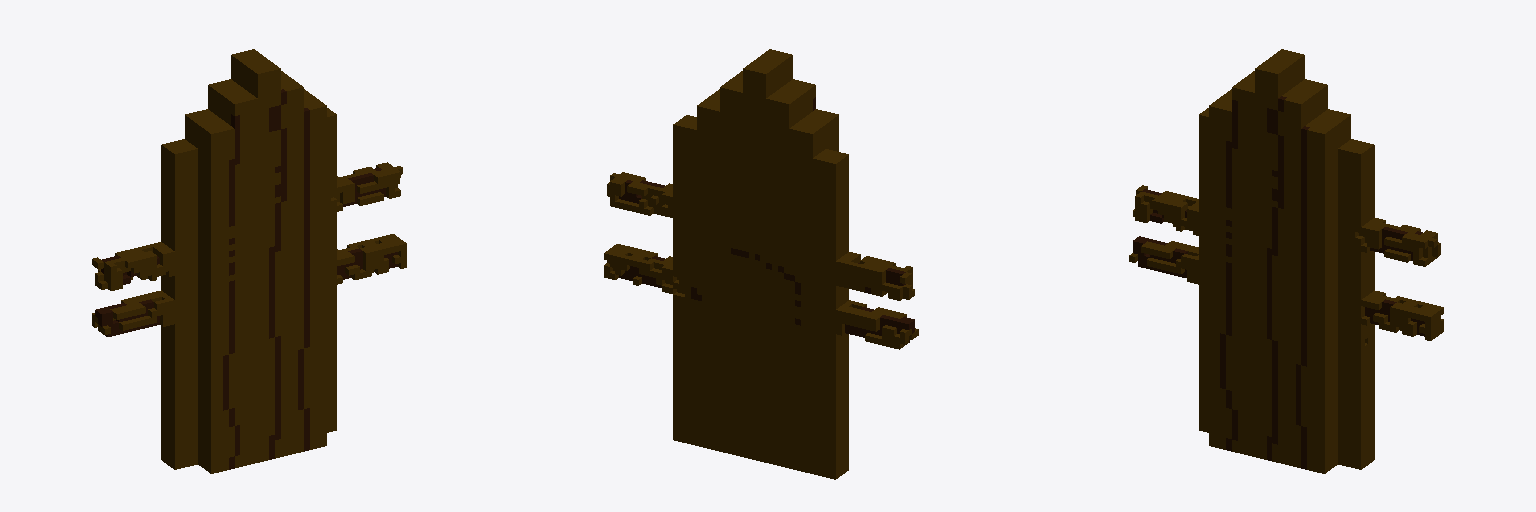
3 renders of one model, left to right at view 1: azimuth 30°, elevation 25°; view 2: azimuth 150°, elevation 25°; view 3: azimuth 330°, elevation 25°, orthographic.
Visible parts, largest first — view 1: Model; view 2: Model; view 3: Model.
Boxes of the visible parts, <box> form: Model: <box>92,49,406,473</box>; Model: <box>604,49,918,479</box>; Model: <box>1129,49,1443,473</box>.
Size of the model in its own units: 13 by 16 by 2.
1 materials, 1 textured.